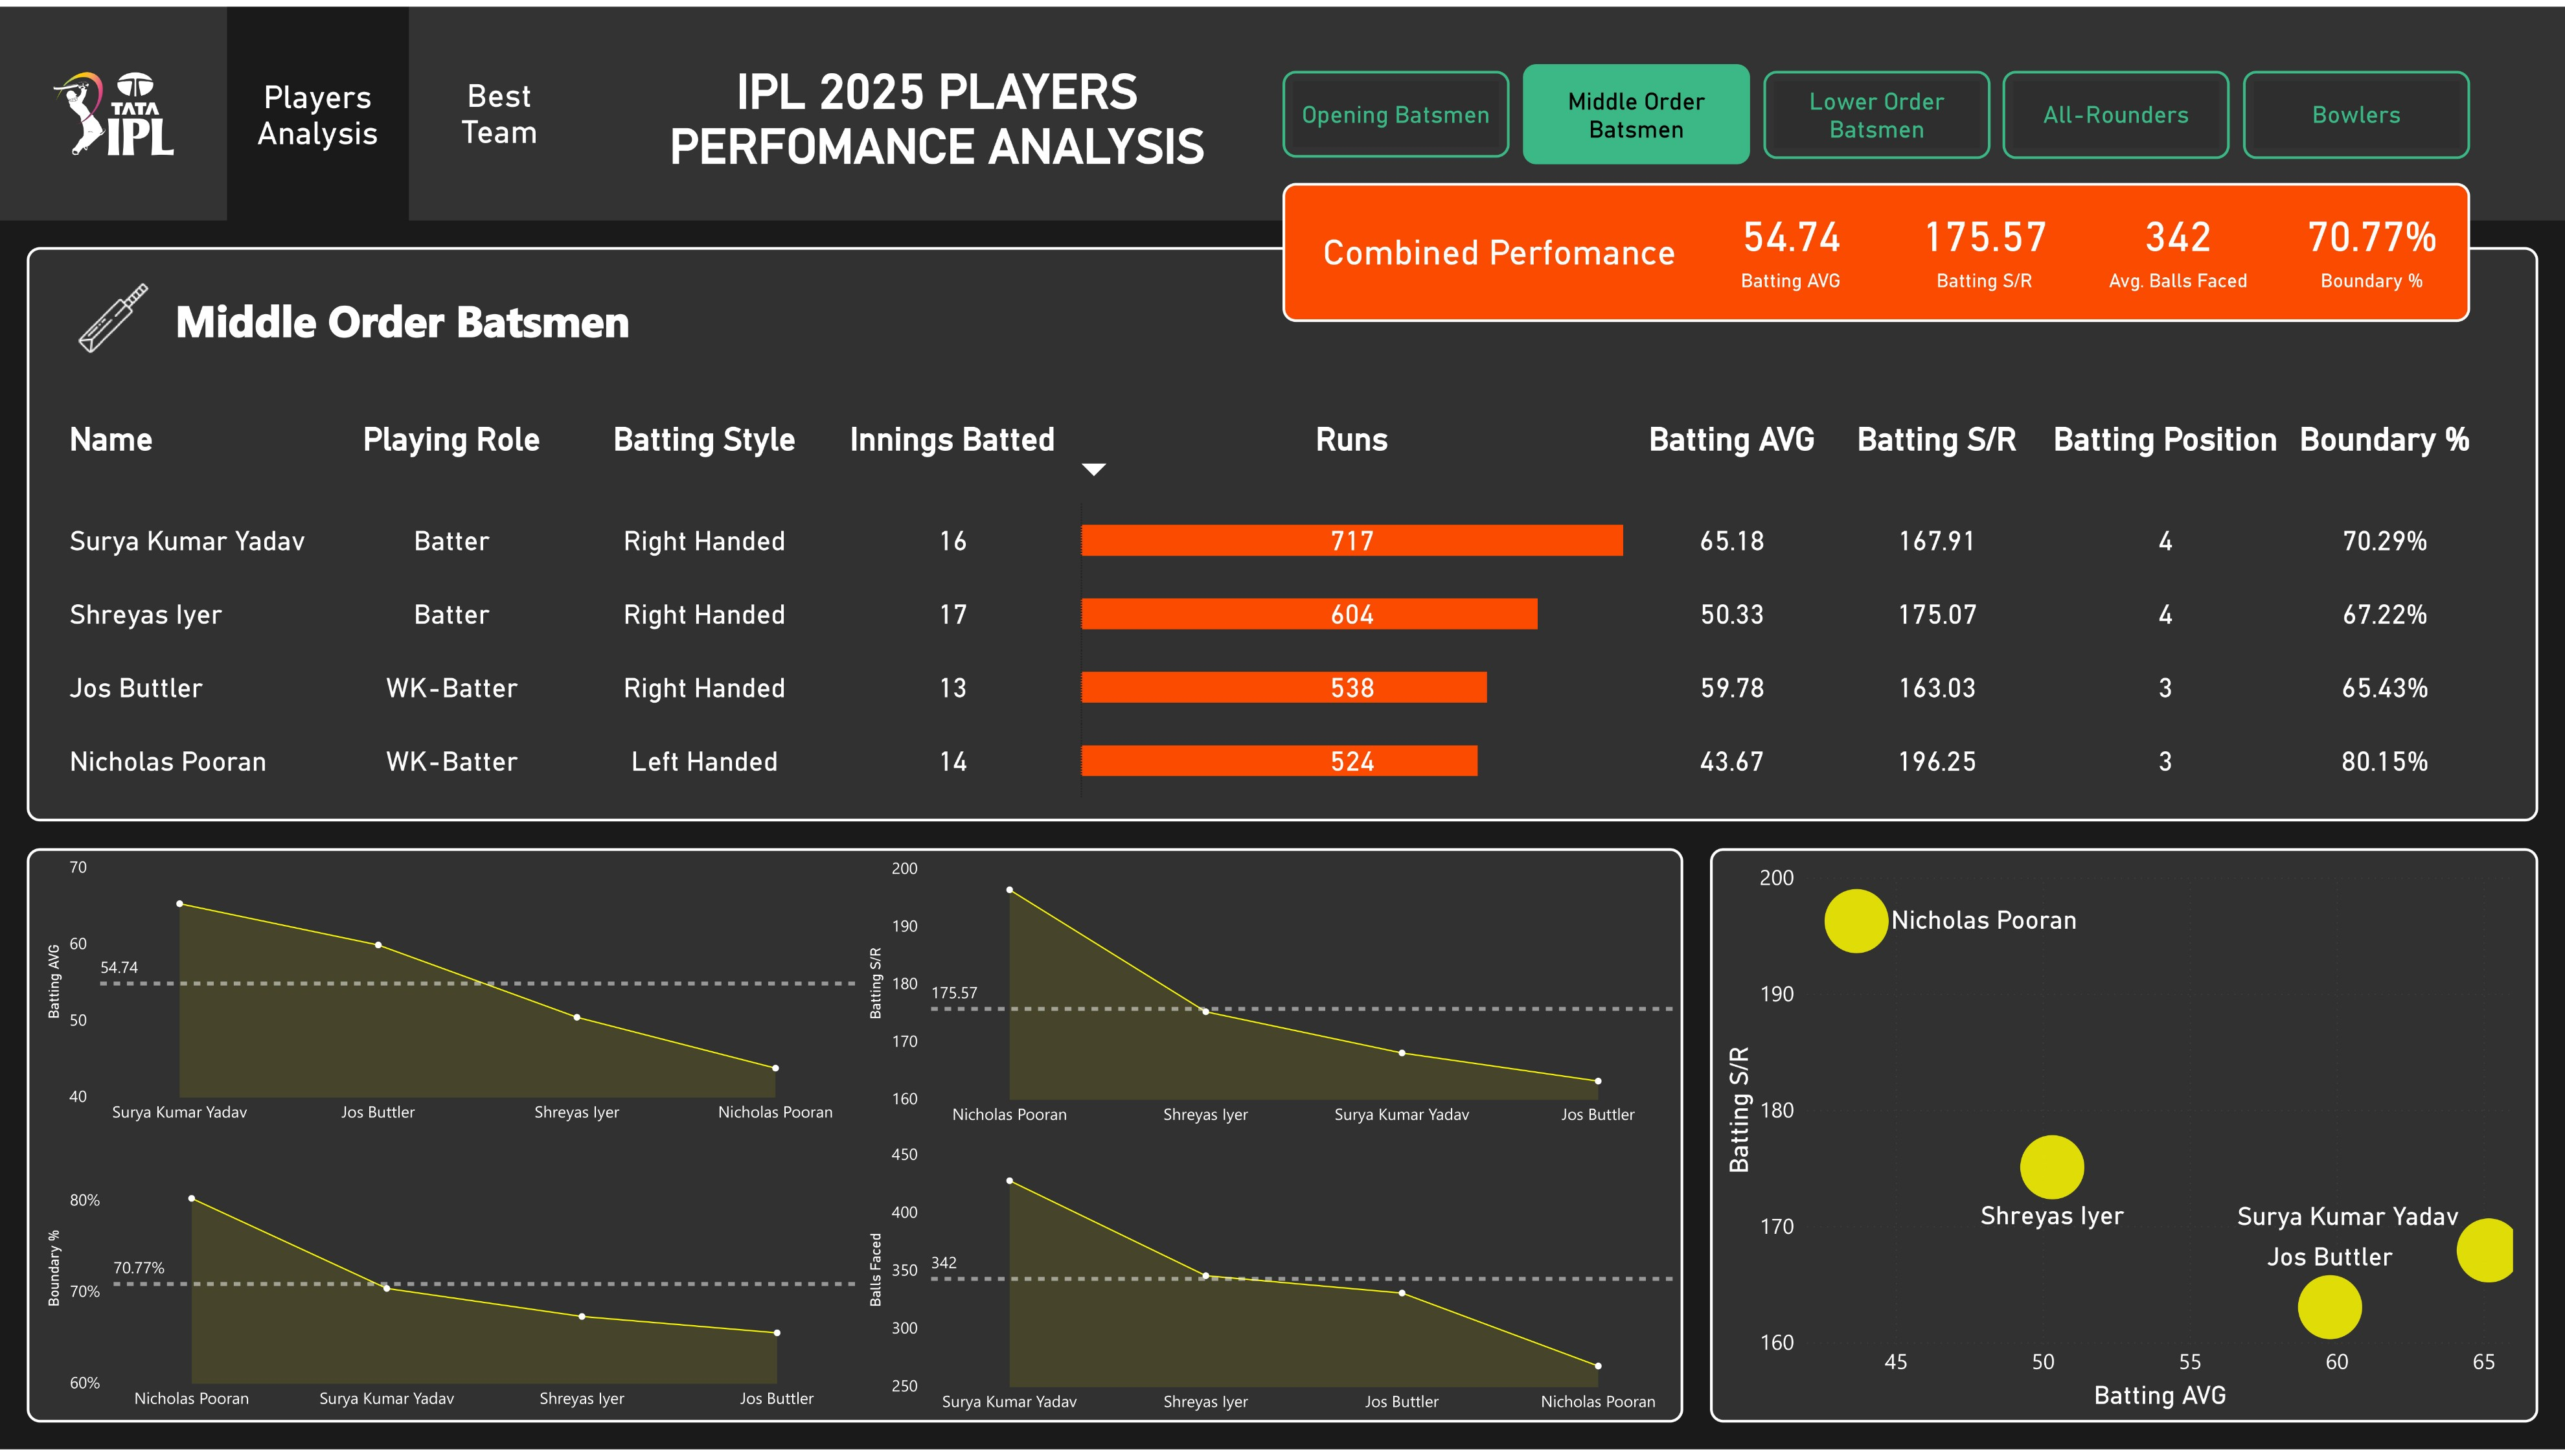

The page's visual inventory and layout, read from the dashboard file:
{"tool":"powerbi","page":{"name":"Middle Order Batsmen","canvas":[1920,1080],"ordinal":1},"visuals":[{"type":"shape","box":[960,132.2,889.3,103.5],"z":0,"group":"g1"},{"type":"shape","box":[20,630,1240,430],"z":0},{"type":"cardVisual","fields":{"Data":["Key_Measures.Batting Avg","Key_Measures.Strike Rate","Key_Measures.Balls Faced","Key_Measures.Boundry %"]},"box":[1267.2,136,582.6,91.8],"z":1000,"group":"g1"},{"type":"shape","box":[20,180,1880,430],"z":1000},{"type":"shape","box":[962.7,155.9,319.2,53.2],"z":2000,"group":"g1"},{"type":"tableEx","fields":{"Values":["All_Players.Players Name","All_Players.Playing Role","All_Players.Batting Style","Key_Measures.Total Innings Batted","Key_Measures.Total Runs","Key_Measures.Batting Avg","Key_Measures.Strike Rate","Key_Measures.Batting Position","Key_Measures.Boundry %"]},"box":[41.4,288.6,1858.6,321.4],"z":2000},{"type":"scatterChart","title":"Batting Average Vs Strike Rate","fields":{"X":["Batsmen_Records.Batting Average"],"Y":["Batsmen_Records.Batting Strike Rate"],"Series":["All_Players.Players Name"]},"box":[1280,630,620,430],"z":3000},{"type":"areaChart","title":"Batting Average Vs Strike Rate","fields":{"Category":["All_Players.Players Name"],"Y":["Key_Measures.Batting Avg"]},"box":[30,630,615,215.7],"z":4000},{"type":"shape","box":[0,0,1920,160],"z":5000},{"type":"shape","box":[119.3,200,364.7,66.7],"z":6000},{"type":"shape","box":[442.9,7.1,517.1,152.9],"z":7000},{"type":"group","id":"g1","title":"Group 1","box":[960,132.2,889.8,103.5],"z":8000},{"type":"image","box":[35,30,100,100],"z":9000},{"type":"actionButton","box":[1140,43,170,75],"z":10000},{"type":"actionButton","box":[1320,48,170,65.7],"z":11000},{"type":"actionButton","box":[1678.6,48,170,65.7],"z":12000},{"type":"actionButton","box":[1498.6,48,170,65.7],"z":13000},{"type":"actionButton","box":[960,48,170,65],"z":14000},{"type":"actionButton","box":[306,0,135.7,160],"z":15000},{"type":"actionButton","box":[170,0,135.7,161],"z":16000},{"type":"image","box":[50,200,70,66.4],"z":17000},{"type":"areaChart","title":"Batting Average Vs Strike Rate","fields":{"Category":["All_Players.Players Name"],"Y":["Key_Measures.Strike Rate"]},"box":[645,630.7,615.1,216.4],"z":18000},{"type":"areaChart","title":"Batting Average Vs Strike Rate","fields":{"Category":["All_Players.Players Name"],"Y":["Key_Measures.Boundry %"]},"box":[30,845,615.1,215],"z":19000},{"type":"areaChart","title":"Batting Average Vs Strike Rate","fields":{"Category":["All_Players.Players Name"],"Y":["Key_Measures.Balls Faced"]},"box":[645,845,615.1,217.5],"z":20000}]}

Visuals, with their boxes in screenshot pixels (x1, y1, x2, y2), scaled from the page's 1920x1080 canvas onto the 2565x1456 screenshot:
shape: 1282:178:2470:318
shape: 27:849:1683:1429
cardVisual - Key_Measures.Batting Avg x Key_Measures.Strike Rate: 1693:183:2471:307
shape: 27:243:2538:823
shape: 1286:210:1713:282
tableEx - All_Players.Players Name x All_Players.Playing Role: 55:389:2538:823
"Batting Average Vs Strike Rate" scatterChart: 1710:849:2538:1429
"Batting Average Vs Strike Rate" areaChart: 40:849:861:1140
shape: 0:0:2564:216
shape: 159:269:646:359
shape: 591:10:1282:216
"Group 1" group: 1282:178:2471:318
image: 47:40:180:176
actionButton: 1523:58:1750:159
actionButton: 1763:65:1990:154
actionButton: 2242:65:2470:154
actionButton: 2002:65:2229:154
actionButton: 1282:65:1510:152
actionButton: 409:0:590:216
actionButton: 227:0:409:217
image: 67:269:161:359
"Batting Average Vs Strike Rate" areaChart: 861:850:1683:1142
"Batting Average Vs Strike Rate" areaChart: 40:1139:862:1429
"Batting Average Vs Strike Rate" areaChart: 861:1139:1683:1433
